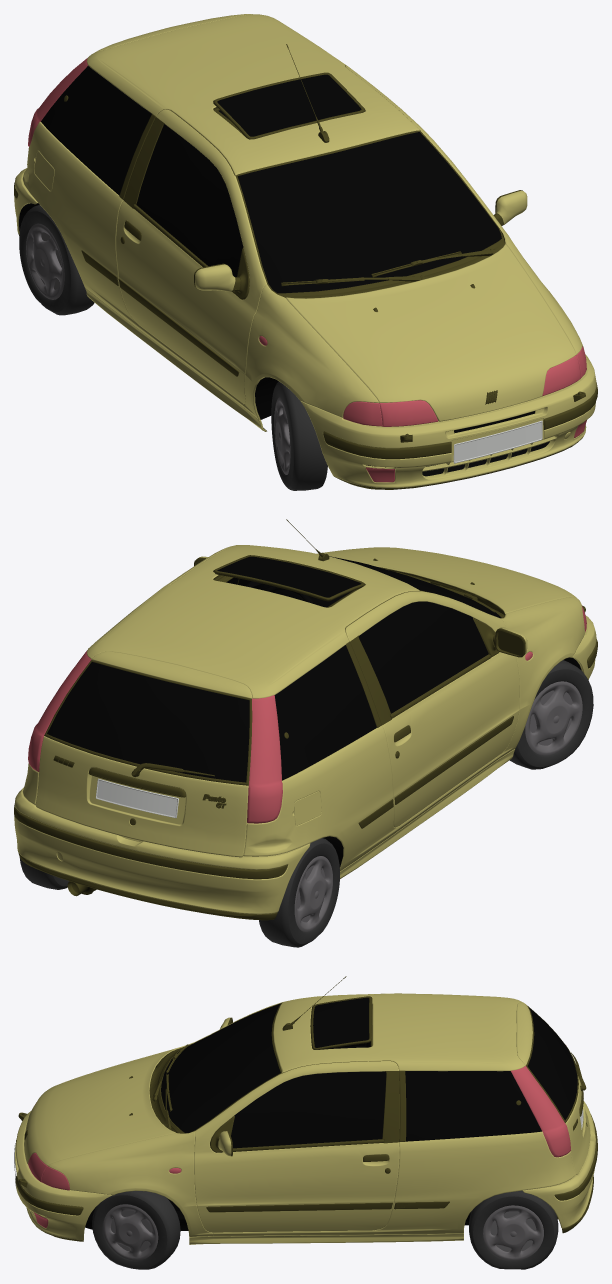
Rendered from car3.glb.
3 renders of one model, top to bottom at view 1: azimuth 30°, elevation 25°; view 2: azimuth 150°, elevation 25°; view 3: azimuth 270°, elevation 25°, orthographic. The views are drawn at different scales.
Visible parts, largest first — view 1: Punto_GT; view 2: Punto_GT; view 3: Punto_GT.
Part boxes in pixels (box(x1,y1,x2,y2)): Punto_GT: box(14, 14, 597, 490); Punto_GT: box(14, 519, 597, 947); Punto_GT: box(14, 976, 597, 1269).
Size of the model in its own units: 3.83 by 3.46 by 7.49.
